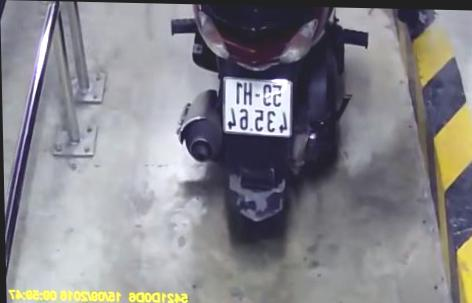License_Plate: (216, 71, 299, 142)
